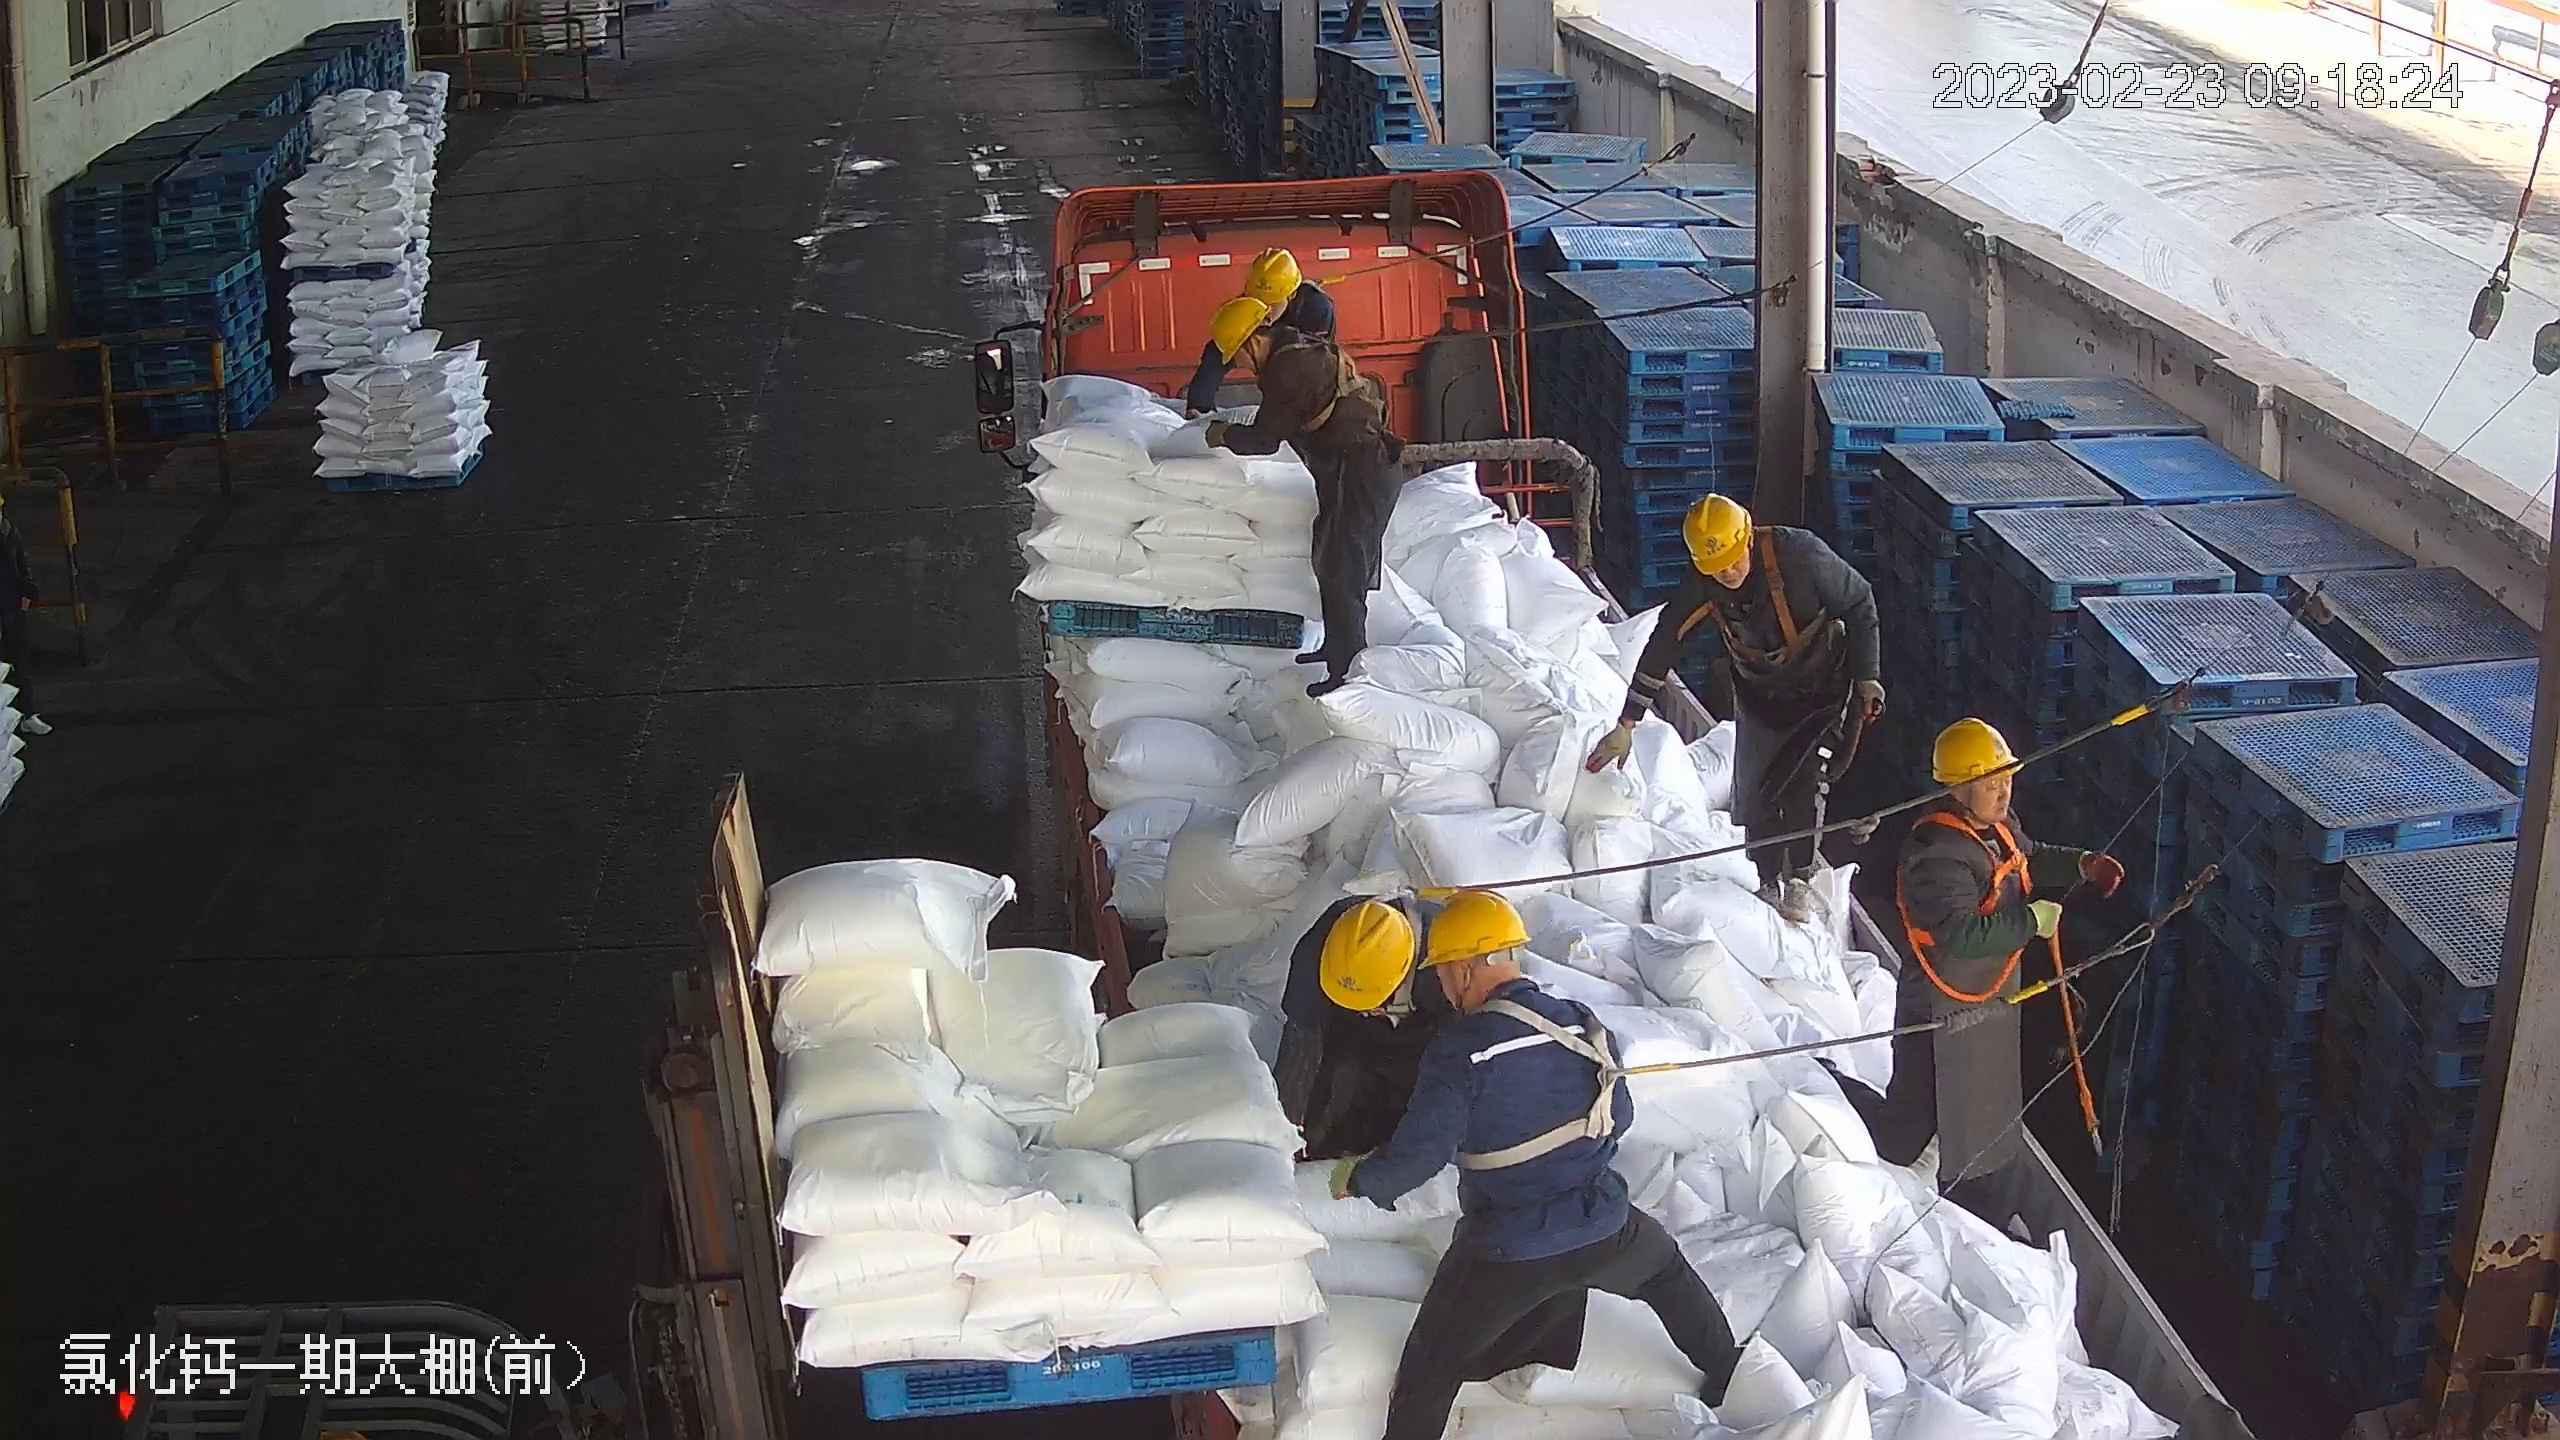belt: (1484, 1002, 1671, 1166), (1897, 820, 2027, 973), (1711, 560, 1833, 670), (1274, 339, 1390, 437), (1372, 962, 1428, 1030), (1298, 263, 1344, 301)
head: (1418, 891, 1600, 1078), (1893, 716, 2037, 885), (1669, 488, 1823, 619), (1210, 298, 1338, 411)
helmet: (1320, 902, 1415, 1010), (1421, 888, 1531, 961), (1924, 712, 2025, 783), (1677, 488, 1756, 570), (1203, 297, 1272, 366), (1241, 248, 1304, 305)
people: (1343, 889, 1736, 1440), (1578, 486, 1888, 934), (1880, 713, 2136, 1240), (1197, 305, 1400, 700), (1282, 871, 1445, 1194)
truck: (987, 168, 2253, 1428)
